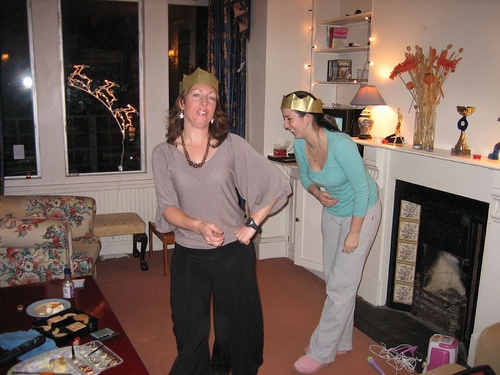head: (178, 83, 220, 130), (275, 93, 317, 140)
person: (150, 67, 290, 371), (278, 91, 382, 369)
